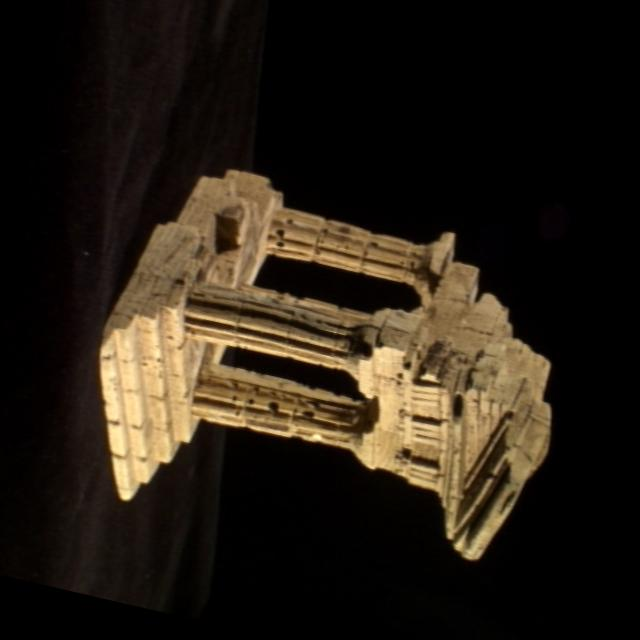Instance-Segmentation: (98, 170, 549, 558)
